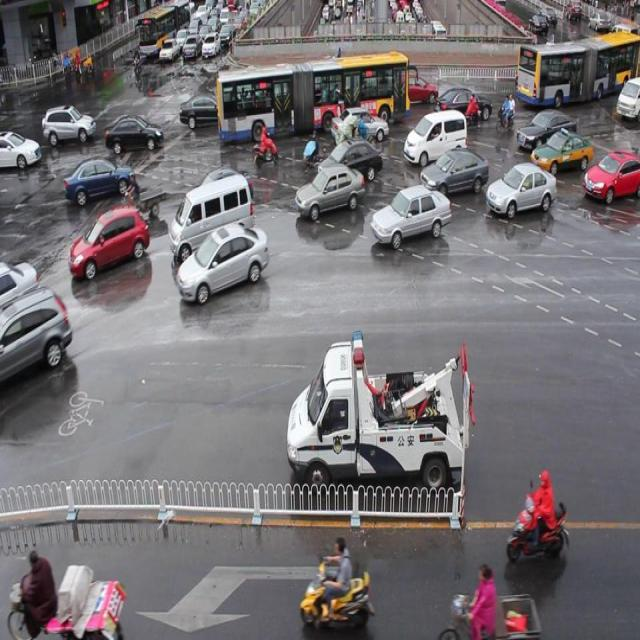BigCar: (203, 48, 420, 140), (511, 36, 640, 98)
car: (293, 320, 480, 518), (0, 283, 72, 384), (59, 211, 151, 277), (369, 188, 452, 258), (293, 165, 361, 249), (178, 240, 256, 304), (99, 106, 172, 170), (61, 152, 137, 213), (163, 199, 263, 240), (399, 101, 472, 156), (492, 156, 550, 220), (536, 119, 590, 182), (525, 96, 576, 156), (36, 104, 101, 147), (597, 153, 640, 214), (3, 123, 40, 183)
